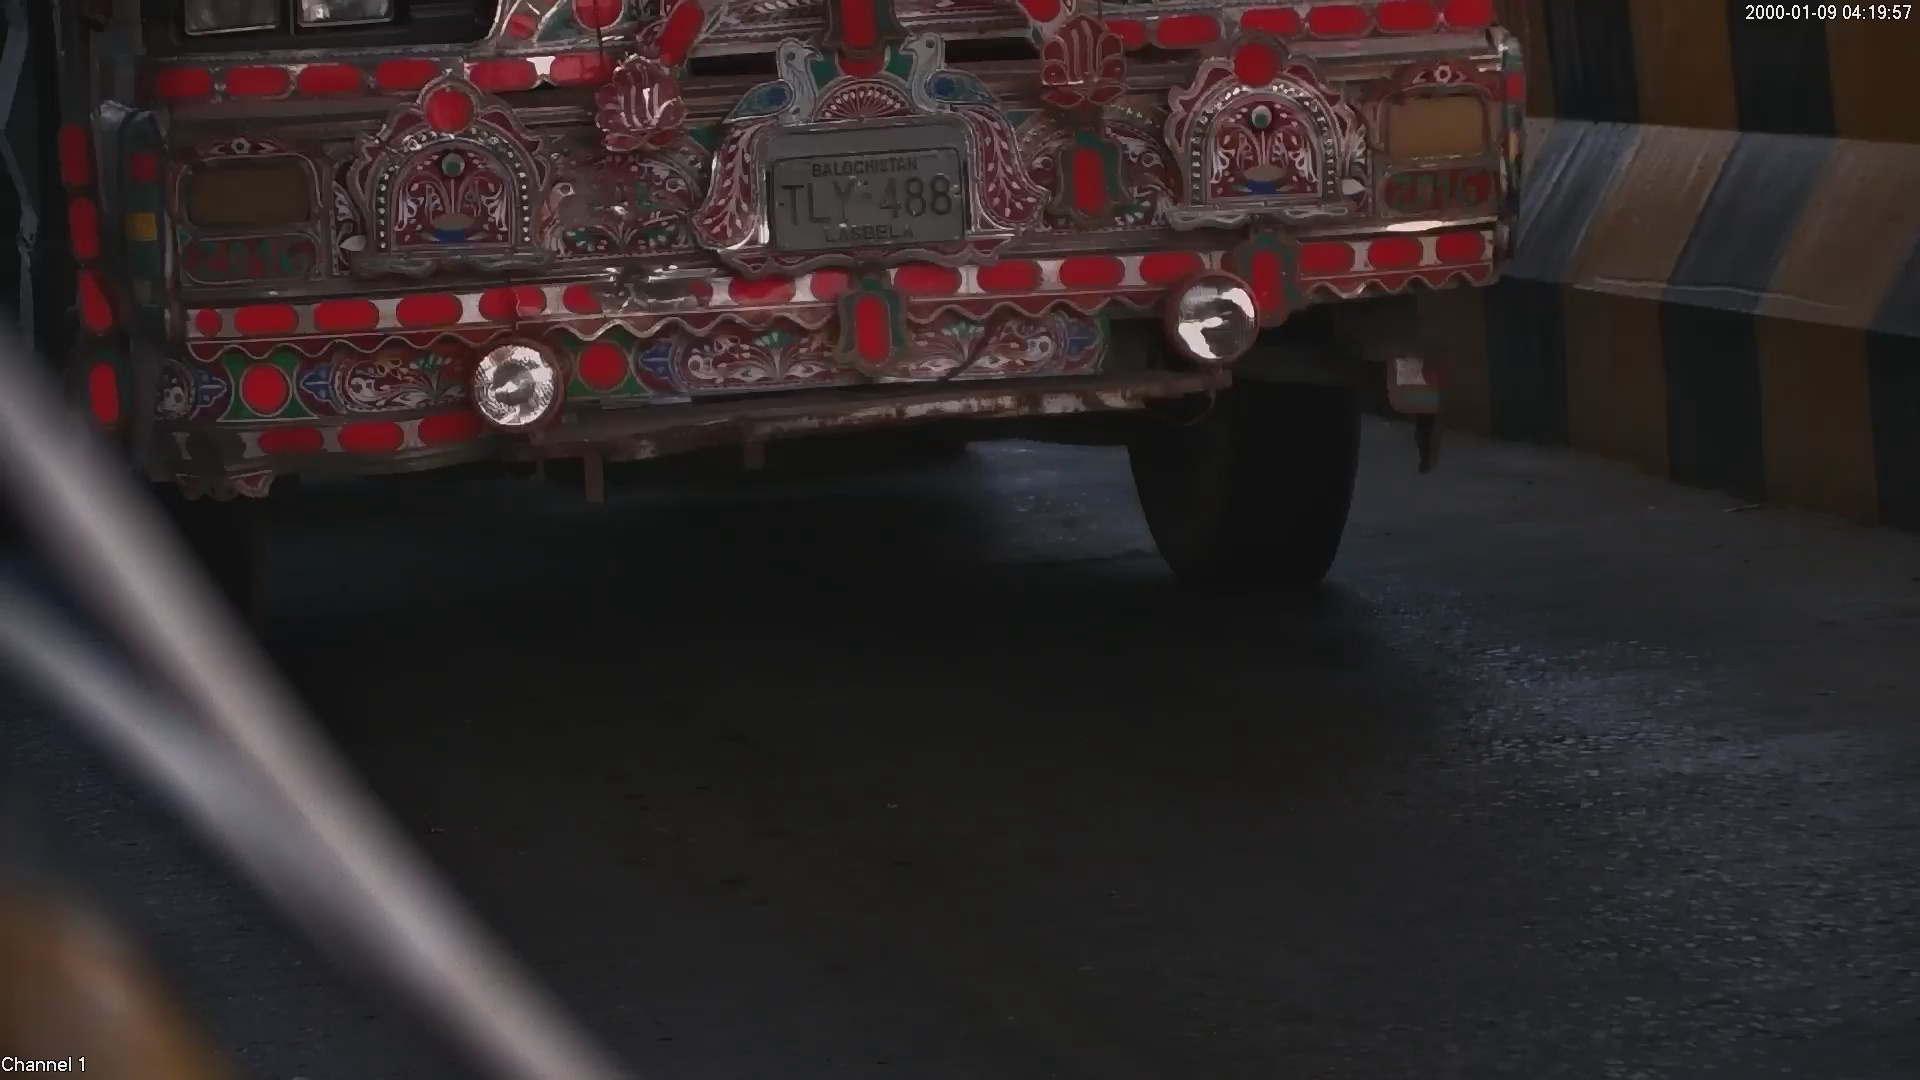Number_Plate: (752, 118, 995, 266)
Undefined: (132, 123, 532, 275), (1167, 59, 1497, 220)
